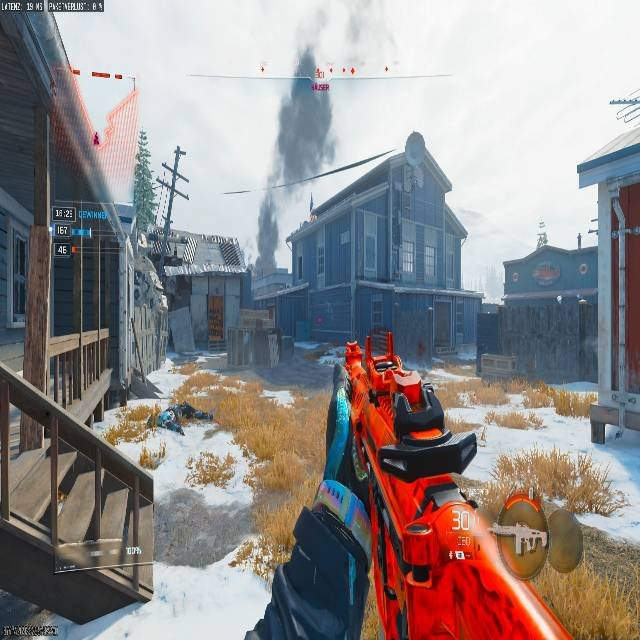player: (158, 403, 186, 435)
